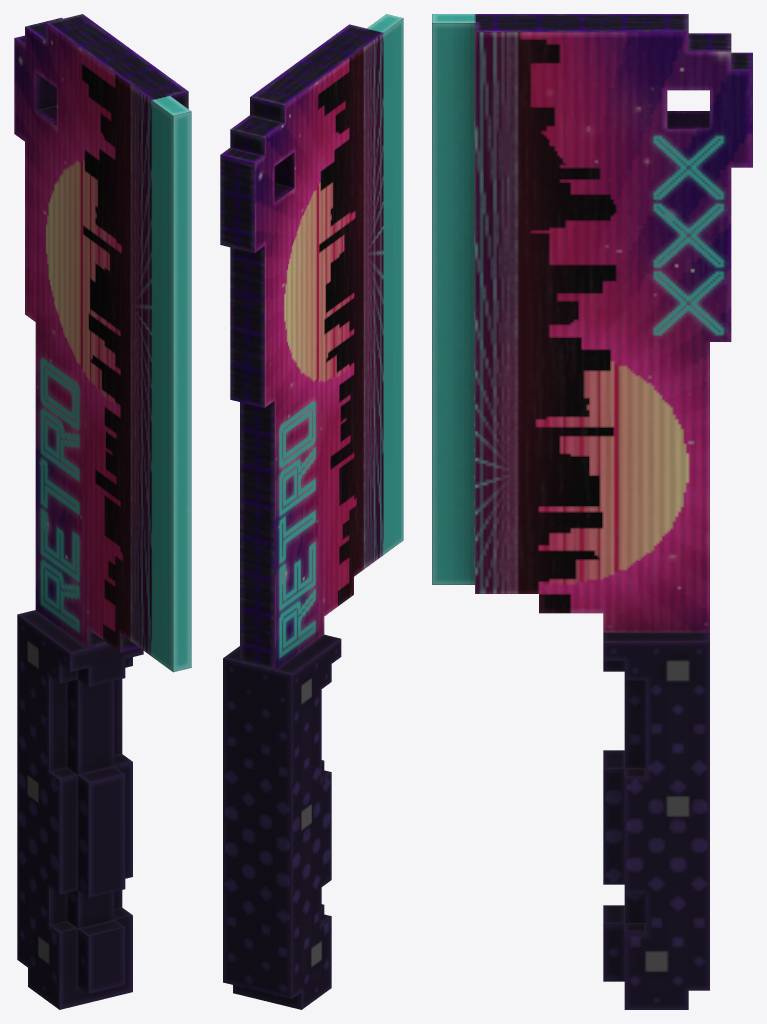
Rendered from RD_CHOPPER_RETRO.glb.
3 renders of one model, left to right at view 1: azimuth 30°, elevation 25°; view 2: azimuth 150°, elevation 25°; view 3: azimuth 270°, elevation 25°, orthographic. The views are drawn at different scales.
Parts seen in each view (by area): view 1: BUTCHER_KNIFE; view 2: BUTCHER_KNIFE; view 3: BUTCHER_KNIFE.
Part boxes in pixels (box(x1,y1,x2,y2)): BUTCHER_KNIFE: box(14, 14, 191, 1009); BUTCHER_KNIFE: box(220, 14, 403, 1009); BUTCHER_KNIFE: box(432, 14, 752, 1009).
Size of the model in its own units: 0.0551 by 0.689 by 0.2067.
Materials: 1 (1 with a texture image).
